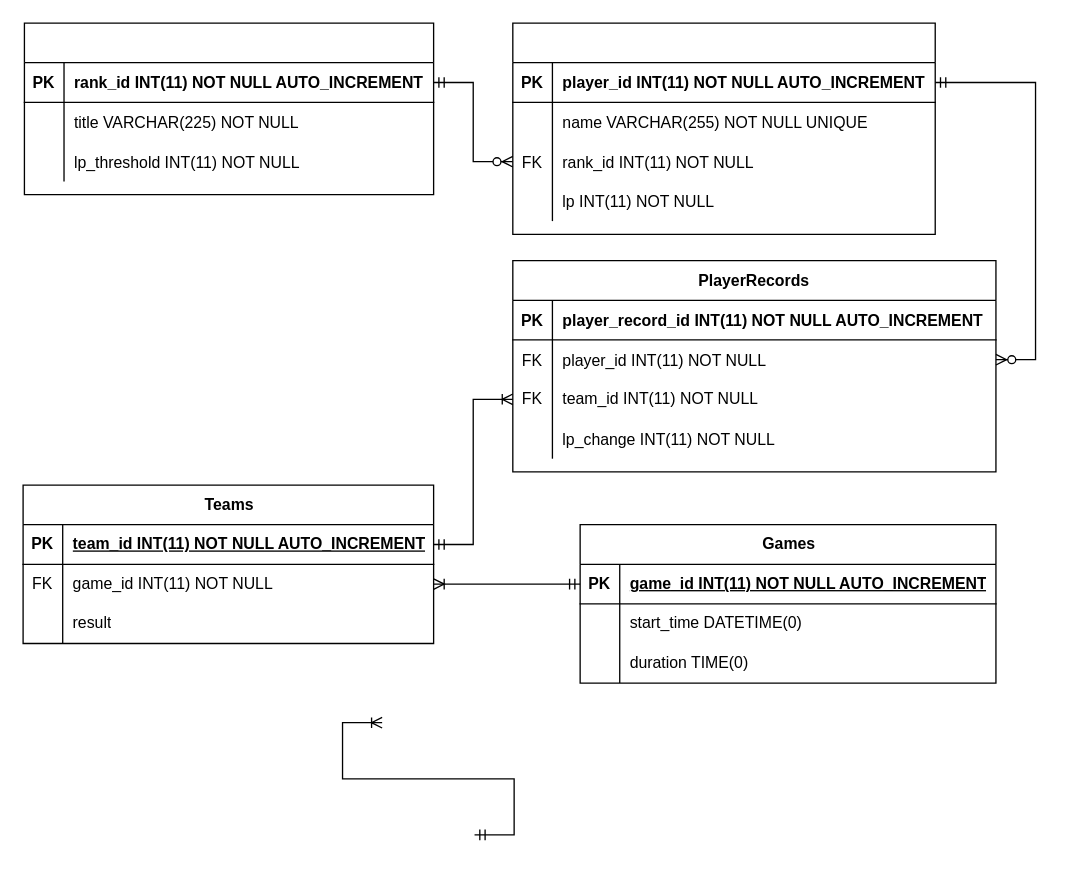
Some shapes in this 1071 by 870 pixel diagram are drawn without their labels. The shapes that lost their labels are listed below. From the top down, each one's box as (x1, y1, x2, y2) in pixels, then its label:
(23, 22, 434, 195): Ranks
(512, 22, 935, 234): Players
